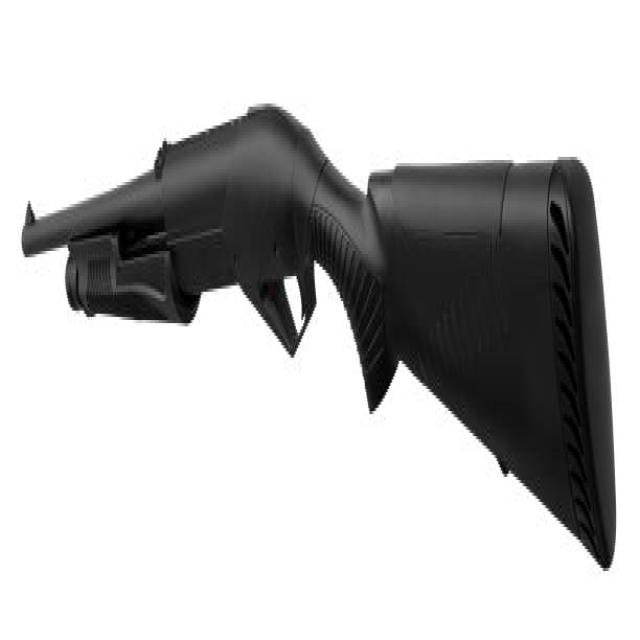rifle: (19, 97, 625, 582)
